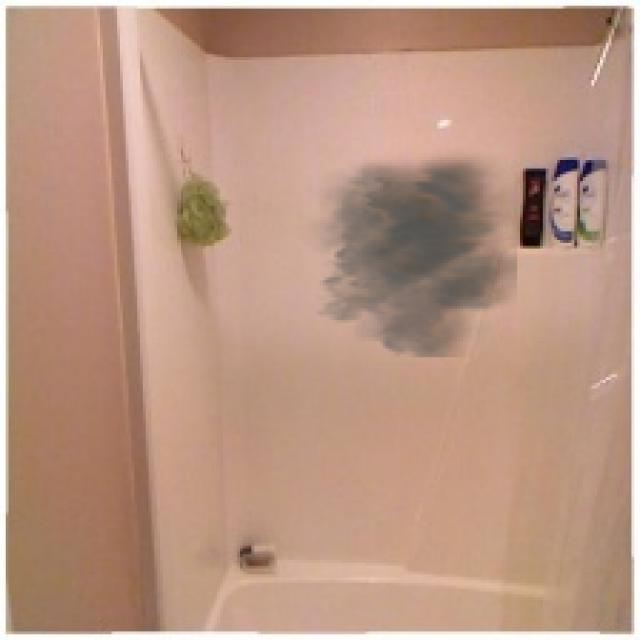smoke: (294, 146, 517, 357)
